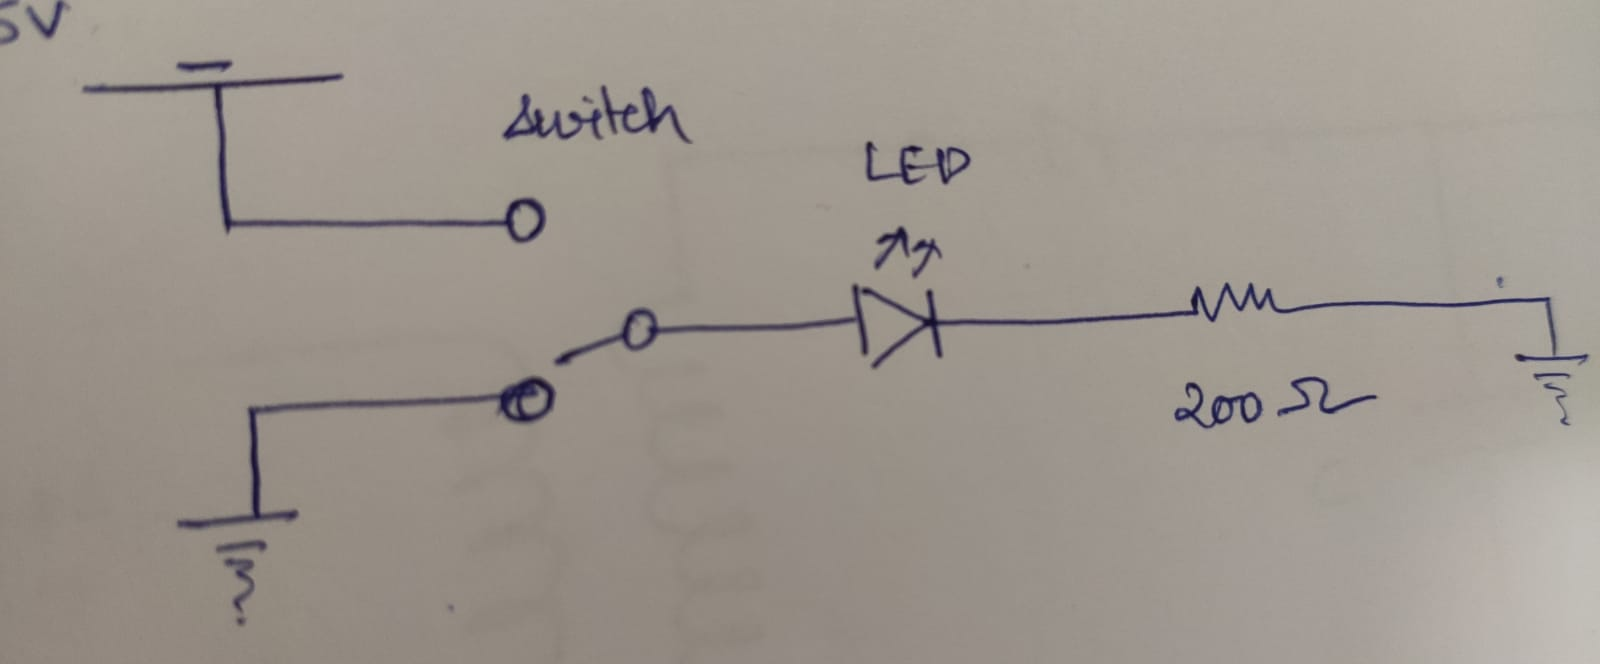diode.light_emitting: (848, 227, 943, 372)
gnd: (173, 508, 300, 624), (1515, 351, 1591, 426)
junction: (233, 398, 274, 433), (212, 206, 247, 243), (1534, 286, 1559, 314)
resistor: (1186, 280, 1287, 323)
switch: (495, 195, 663, 423)
text: (1176, 374, 1379, 429), (510, 83, 681, 141), (863, 134, 971, 184), (1, 1, 74, 48)
voltage.dc: (81, 54, 343, 97)
